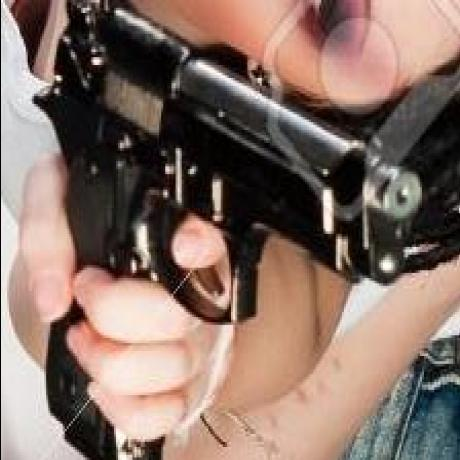weapon: (38, 0, 428, 460)
